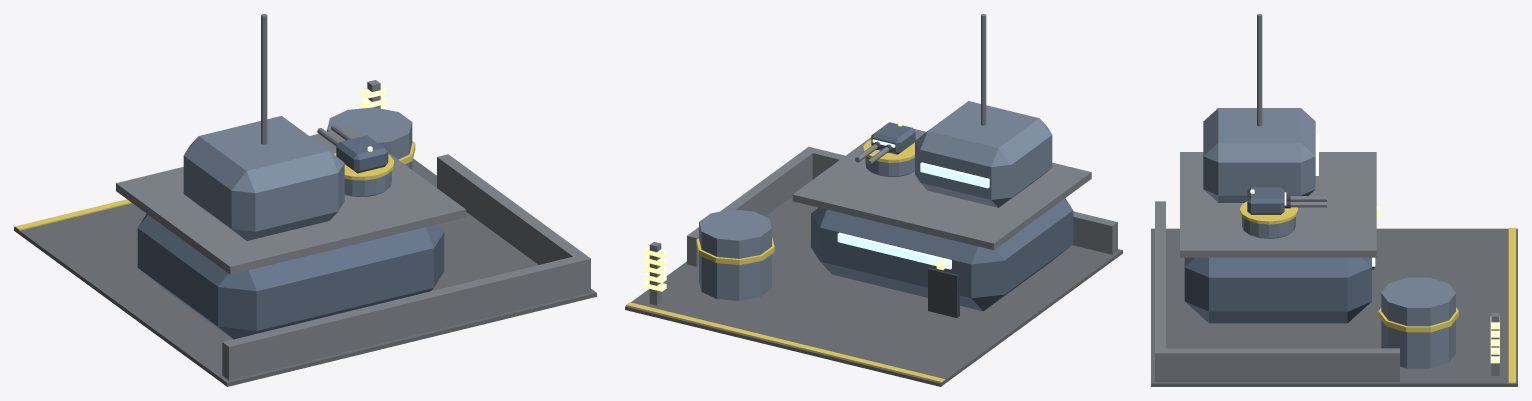
The model's file is zone_low_2_t5.glb.
The picture shows the model from 3 angles, left to right: view 1: azimuth 30°, elevation 25°; view 2: azimuth 150°, elevation 25°; view 3: azimuth 270°, elevation 25°; orthographic projection. The views are drawn at different scales.
Parts seen in each view (by area): view 1: zone_low_2_t5, detail; view 2: zone_low_2_t5, detail; view 3: zone_low_2_t5, detail.
Part boxes in pixels (left/top/right/bottom): zone_low_2_t5: left=14, top=107, right=596, bottom=386; detail: left=15, top=14, right=415, bottom=230; zone_low_2_t5: left=625, top=101, right=1122, bottom=386; detail: left=626, top=14, right=986, bottom=382; zone_low_2_t5: left=1151, top=108, right=1517, bottom=386; detail: left=1250, top=14, right=1515, bottom=383.
Size of the model in its own units: 19.6 by 15.26 by 19.6.
